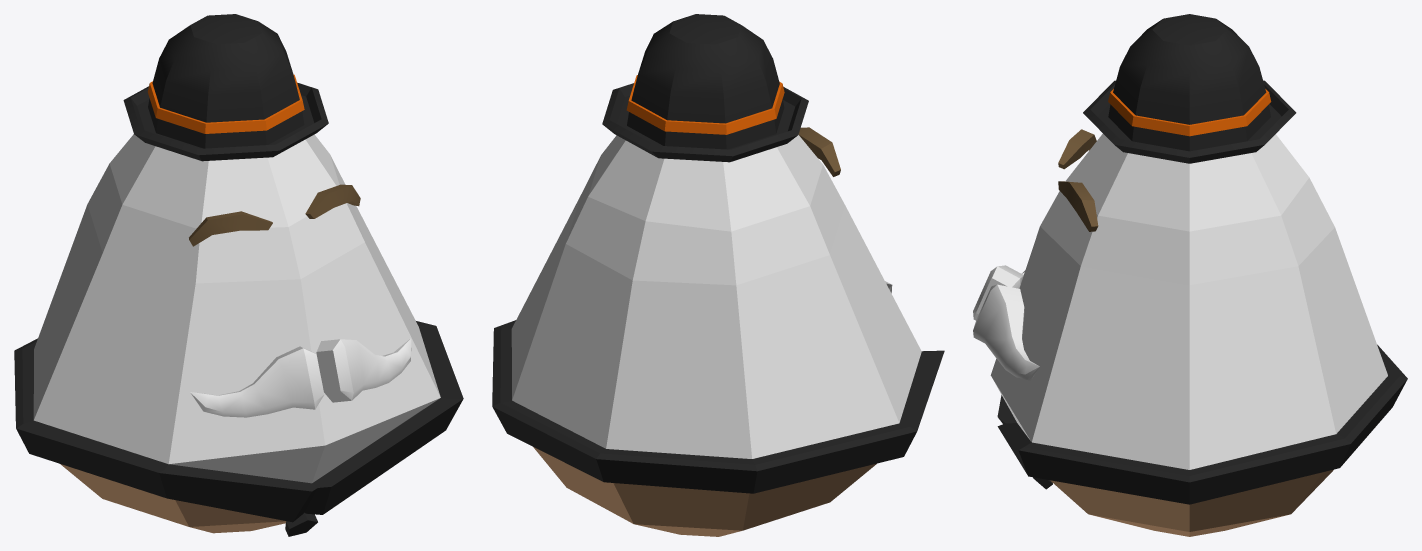
Rendered from DMeson.fbx.
3 views of the same model, side by side, from view 1: azimuth 30°, elevation 25°; view 2: azimuth 150°, elevation 25°; view 3: azimuth 270°, elevation 25° (orthographic).
Parts seen in each view (by area): view 1: KAON, HAT; view 2: KAON, HAT; view 3: KAON, HAT.
Part boxes in pixels (x1,y1,x2,y2): KAON: (14, 134, 463, 536); HAT: (123, 14, 328, 161); KAON: (492, 127, 944, 536); HAT: (602, 14, 808, 162); KAON: (973, 129, 1407, 536); HAT: (1083, 14, 1296, 163).
Bounding box in the file's own units: 218 × 248 × 195.
